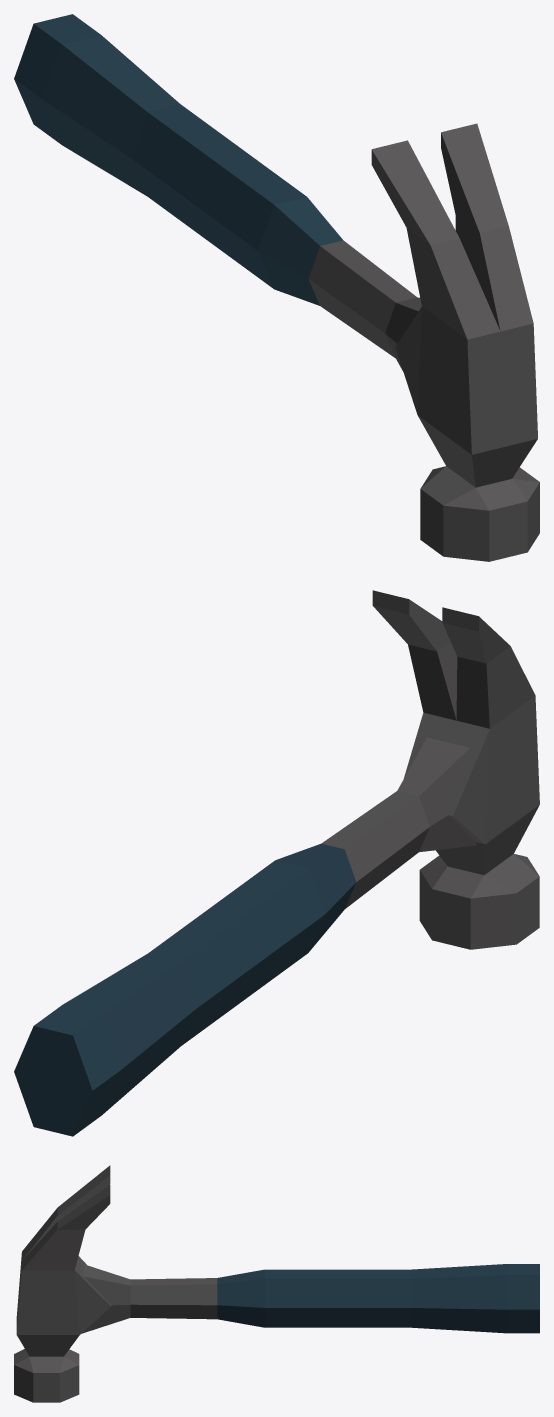
File: SM_Item_Hammer_Claw.fbx
3 renders of one model, top to bottom at view 1: azimuth 30°, elevation 25°; view 2: azimuth 150°, elevation 25°; view 3: azimuth 270°, elevation 25°, orthographic. The views are drawn at different scales.
Visible parts, largest first — view 1: SM_Item_Hammer_Claw; view 2: SM_Item_Hammer_Claw; view 3: SM_Item_Hammer_Claw.
Part boxes in pixels (x1,y1,x2,y2): SM_Item_Hammer_Claw: [14, 14, 539, 561]; SM_Item_Hammer_Claw: [14, 590, 539, 1136]; SM_Item_Hammer_Claw: [14, 1165, 539, 1402].
Size of the model in its own units: 6.57 by 21.41 by 48.93.
